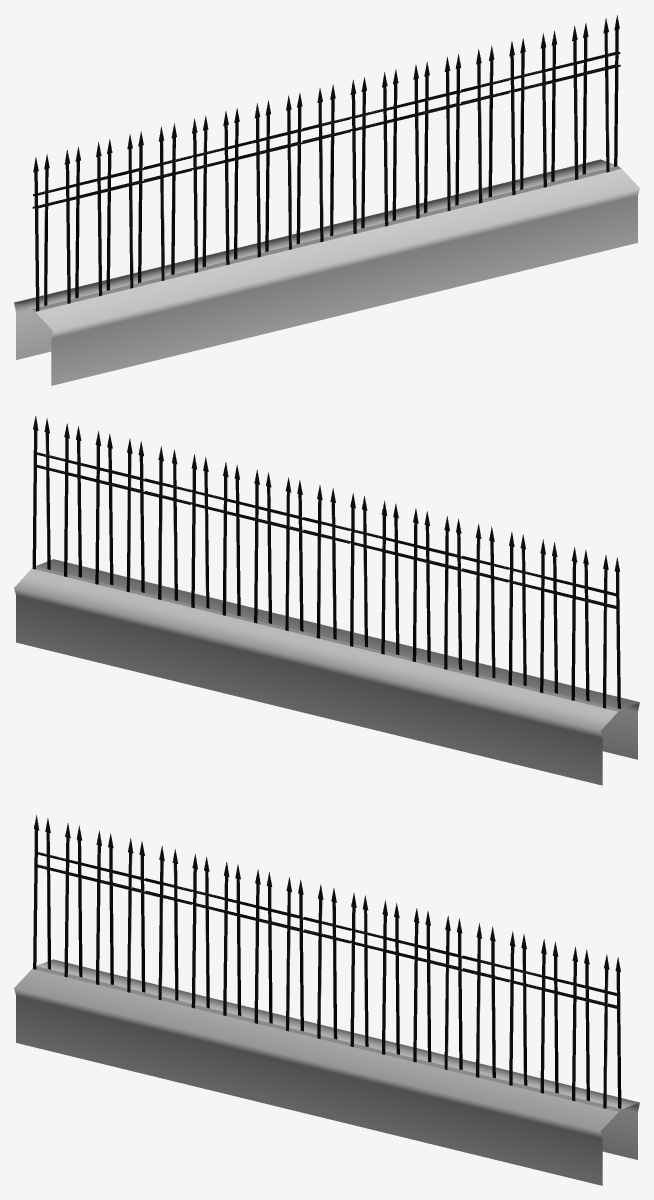
The model's file is Civ_synagogaita_0_1.FBX.
3 views of the same model, one above another, from view 1: azimuth 30°, elevation 25°; view 2: azimuth 150°, elevation 25°; view 3: azimuth 330°, elevation 25° (orthographic).
Visible parts, largest first — view 1: Plane_000; view 2: Plane_000; view 3: Plane_000.
Part boxes in pixels (box(x1,y1,x2,y2)): Plane_000: box(14, 15, 639, 385); Plane_000: box(14, 416, 639, 785); Plane_000: box(14, 815, 639, 1185).
Bounding box in the file's own units: 11.79 × 4.14 × 1.37.
